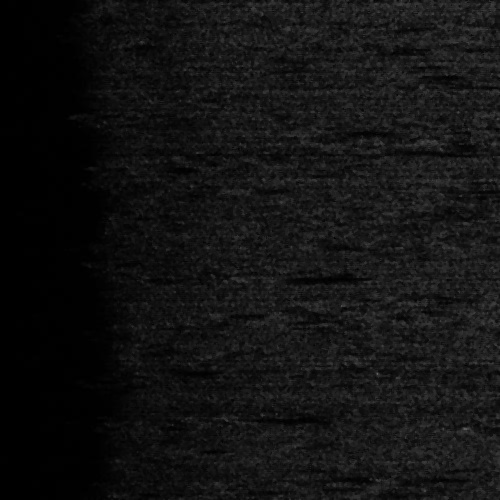shadow: (258, 274, 363, 277)
